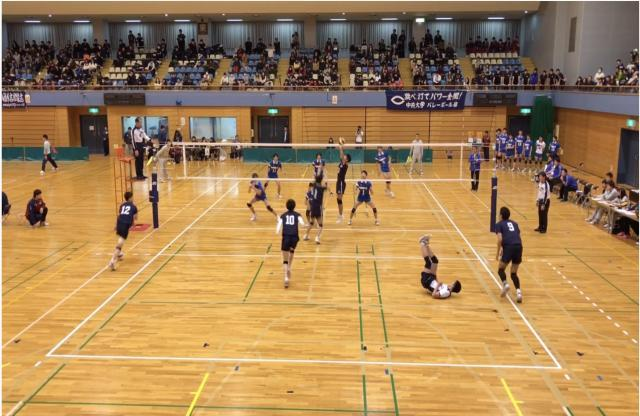set: (332, 134, 358, 228)
